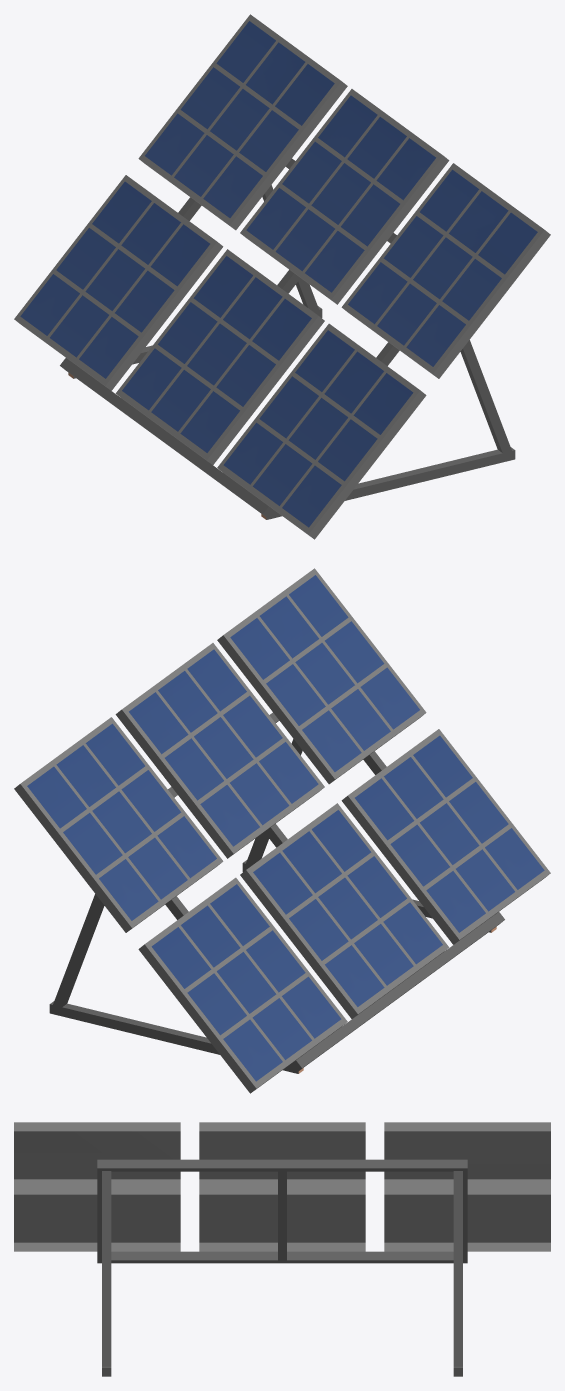
Rendered from Solar_Panels.fbx.
The picture shows the model from 3 angles, top to bottom: view 1: azimuth 30°, elevation 25°; view 2: azimuth 150°, elevation 25°; view 3: azimuth 270°, elevation 25°; orthographic projection. The views are drawn at different scales.
Parts seen in each view (by area): view 1: Solar_Panels_1A; view 2: Solar_Panels_1A; view 3: Solar_Panels_1A.
Part boxes in pixels (bbox=[...]): Solar_Panels_1A: bbox=[14, 14, 550, 539]; Solar_Panels_1A: bbox=[14, 568, 550, 1093]; Solar_Panels_1A: bbox=[14, 1122, 550, 1376].
Size of the model in its own units: 5341 by 5394 by 10682.
